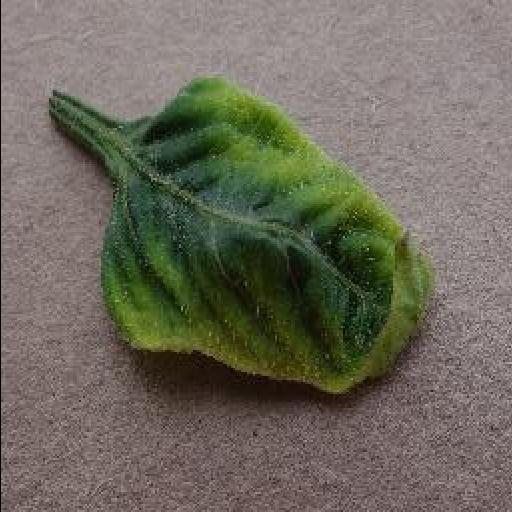disease_tomato: (104, 78, 432, 396)
